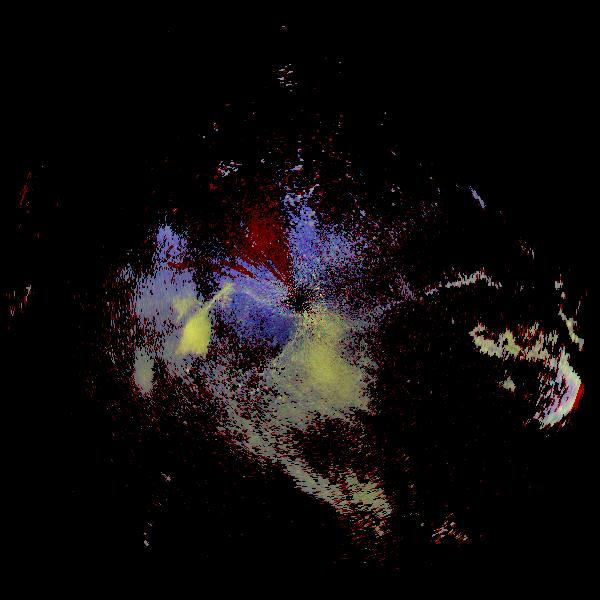roost: (98, 267, 239, 408)
